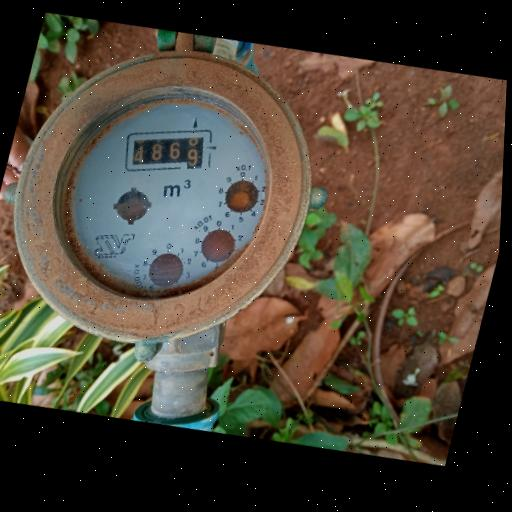4: (127, 135, 156, 169)
6: (163, 133, 193, 167)
8: (145, 135, 173, 168)
9: (179, 132, 209, 172)
border_water_meter_number: (116, 110, 219, 189)
